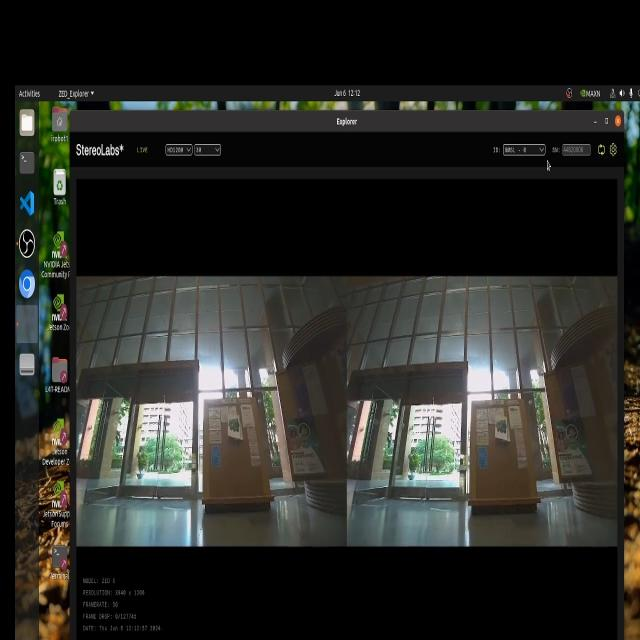green: (496, 416, 509, 449), (229, 408, 242, 437)
